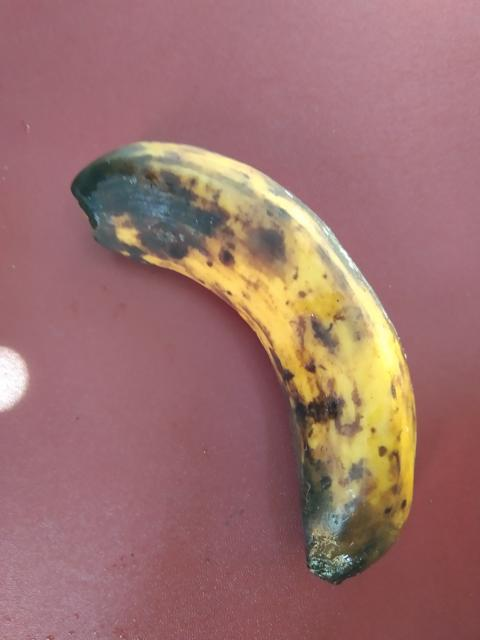rotten: (71, 117, 432, 604)
